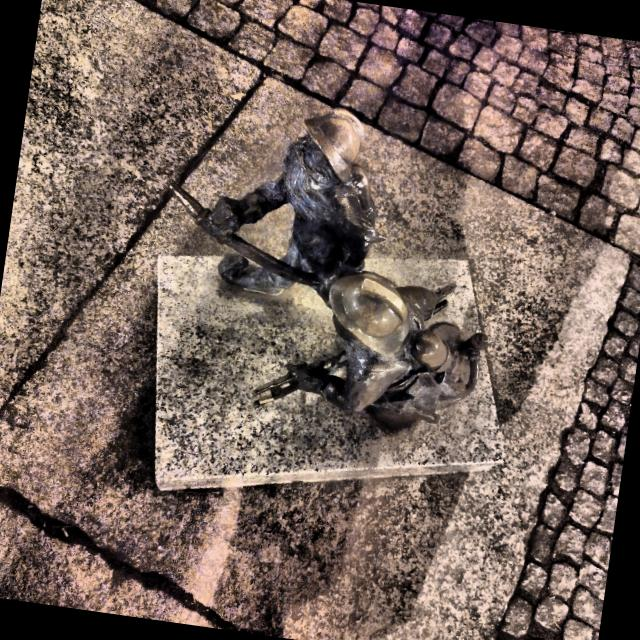Pozarki: (169, 108, 489, 431)
